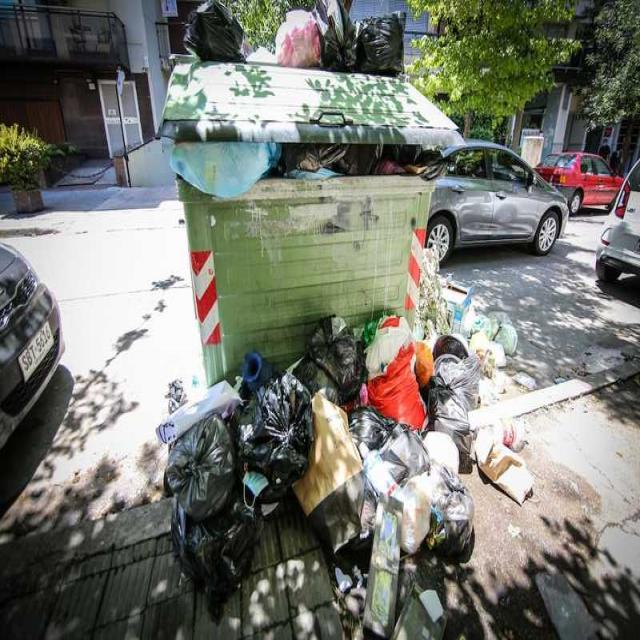garbage: (156, 321, 532, 640), (164, 121, 453, 203), (184, 0, 410, 77), (436, 264, 488, 326)
